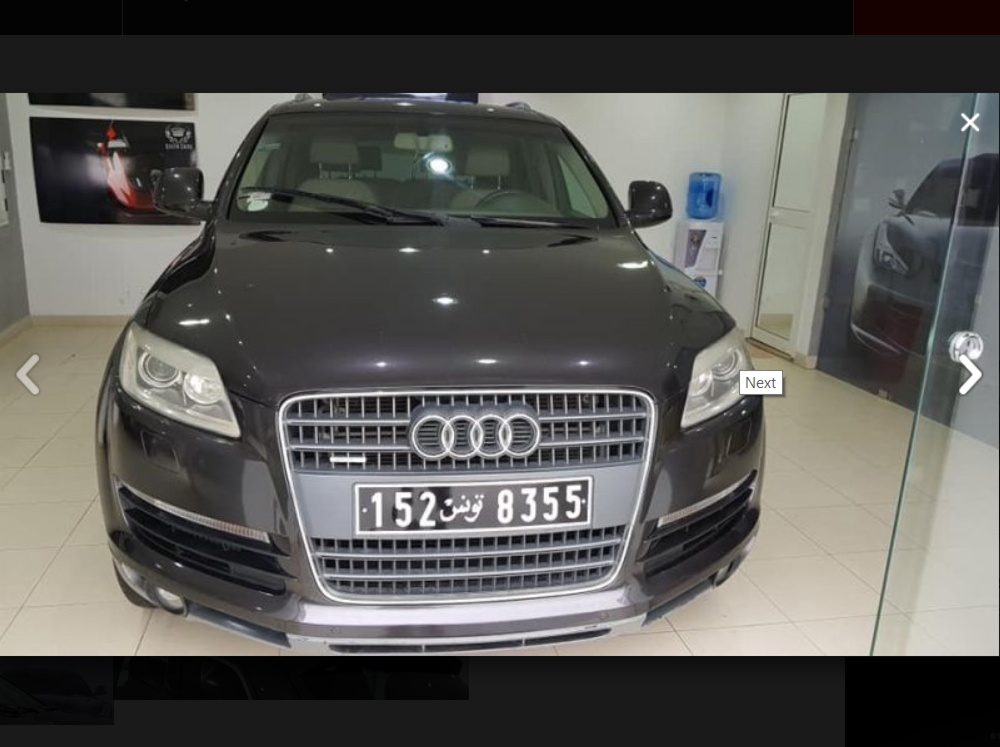LP: (350, 475, 598, 537)
